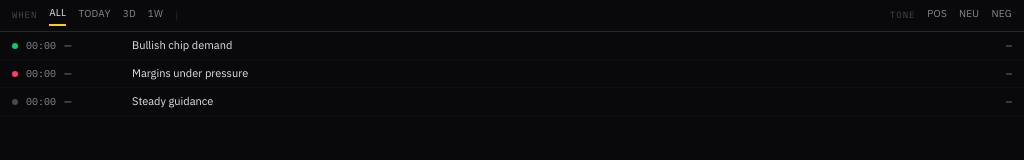
Test: NewsColumn sentiment filter (client-side) › re-shows all articles when the active pill is toggled off
Step 1. Click the button "NEG" → [1002, 16], box [991,6,1012,24]
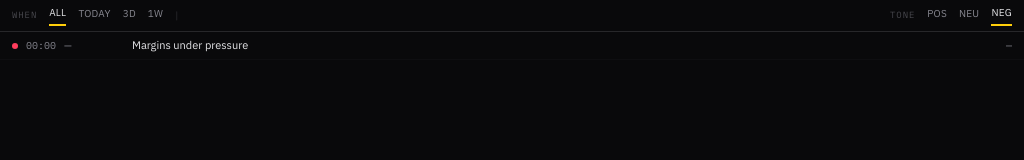
Expected: the link "Bullish chip demand" is gone
Step 2. Click the button "NEG" → [1002, 16], box [991,6,1012,26]
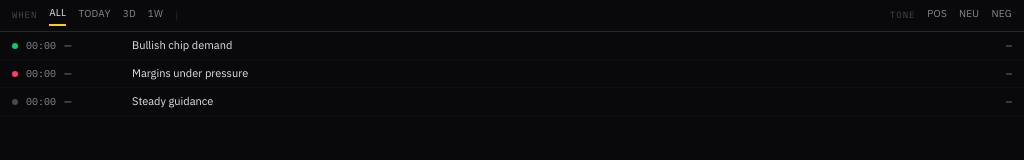
Expected: the text "Margins under pressure" is shown, [132,66,248,80]
Expected: the text "Bullish chip demand" is shown, [132,38,232,52]
